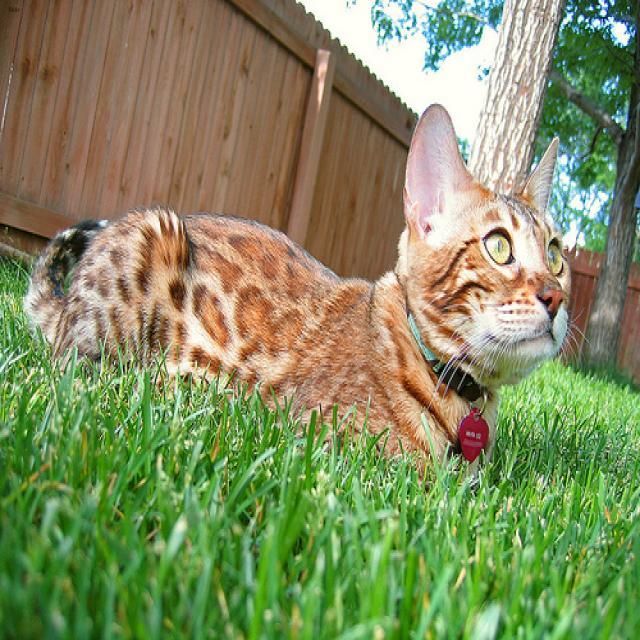Bengal: (402, 101, 570, 372)
